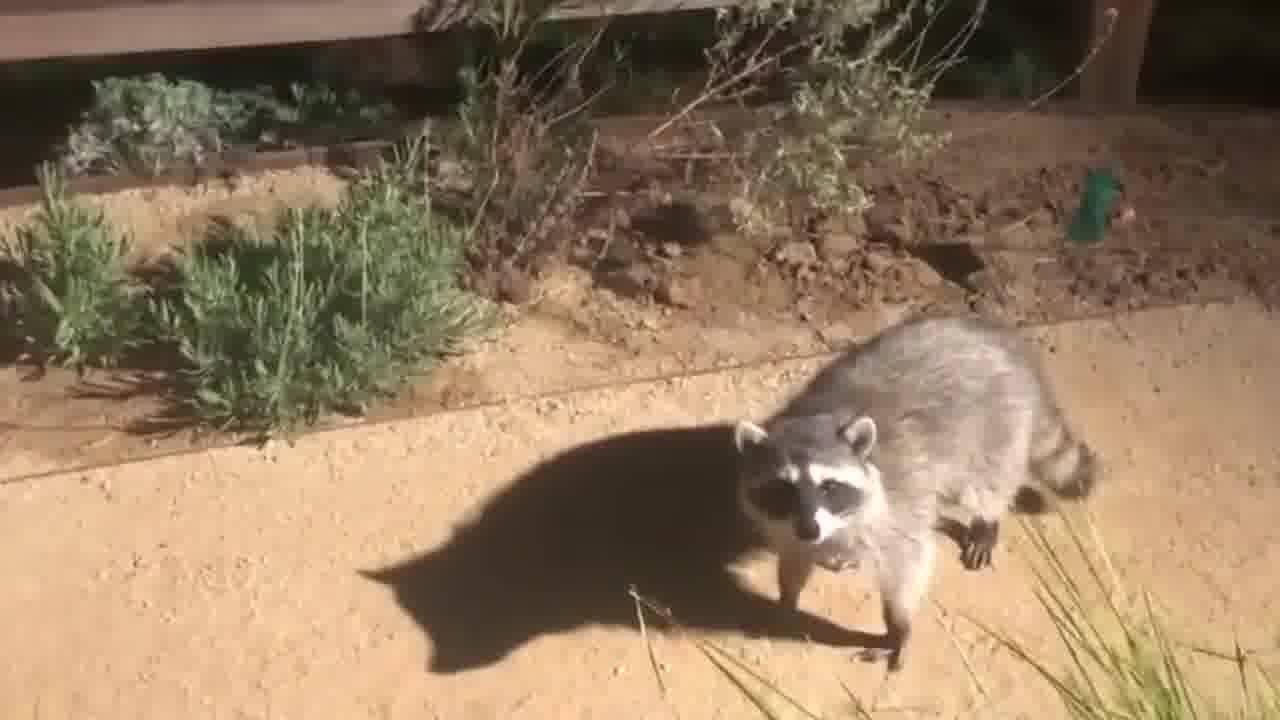raccoon: (737, 312, 1107, 686)
